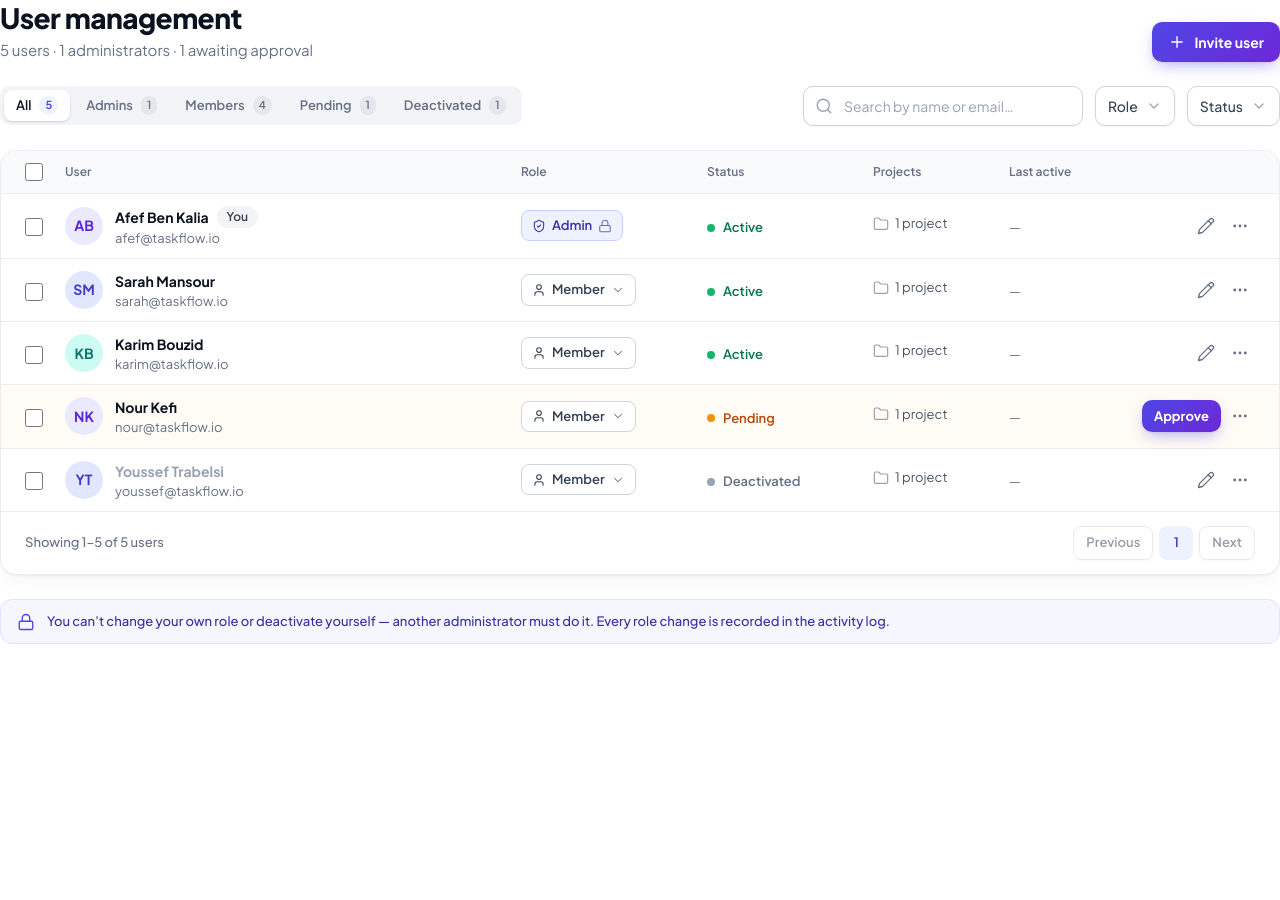
Scenario: Users › selection › reports partial failures and keeps the failed rows selected
This screenshot has width=1280, height=900.
Expected: the text "Karim Bouzid" is shown, left=115, top=334, right=204, bottom=354
Click the checkbox named "Select Sarah Mansour": click(34, 292) left=25, top=283, right=43, bottom=301
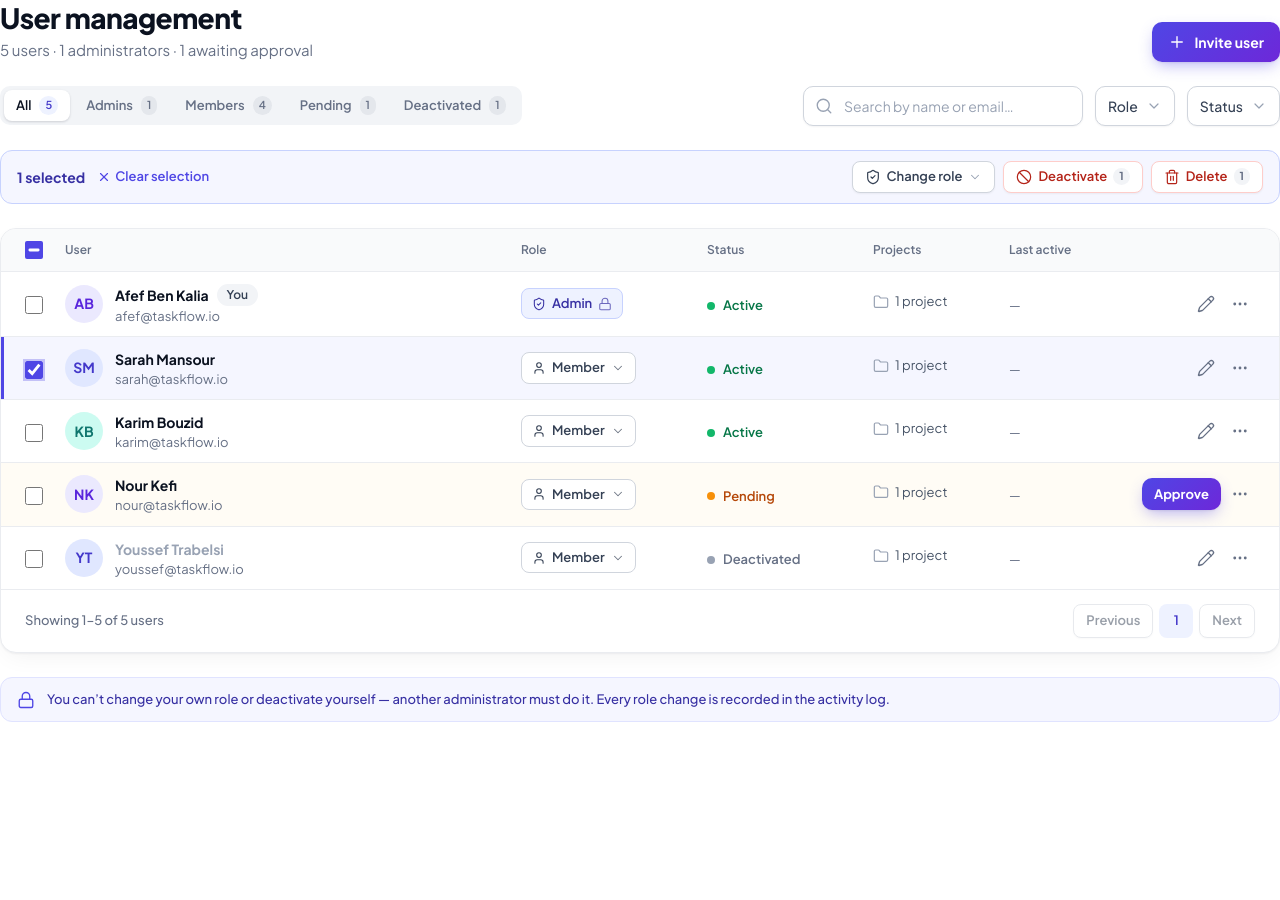
Click the checkbox named "Select Karim Bouzid": click(34, 433) left=25, top=424, right=43, bottom=442
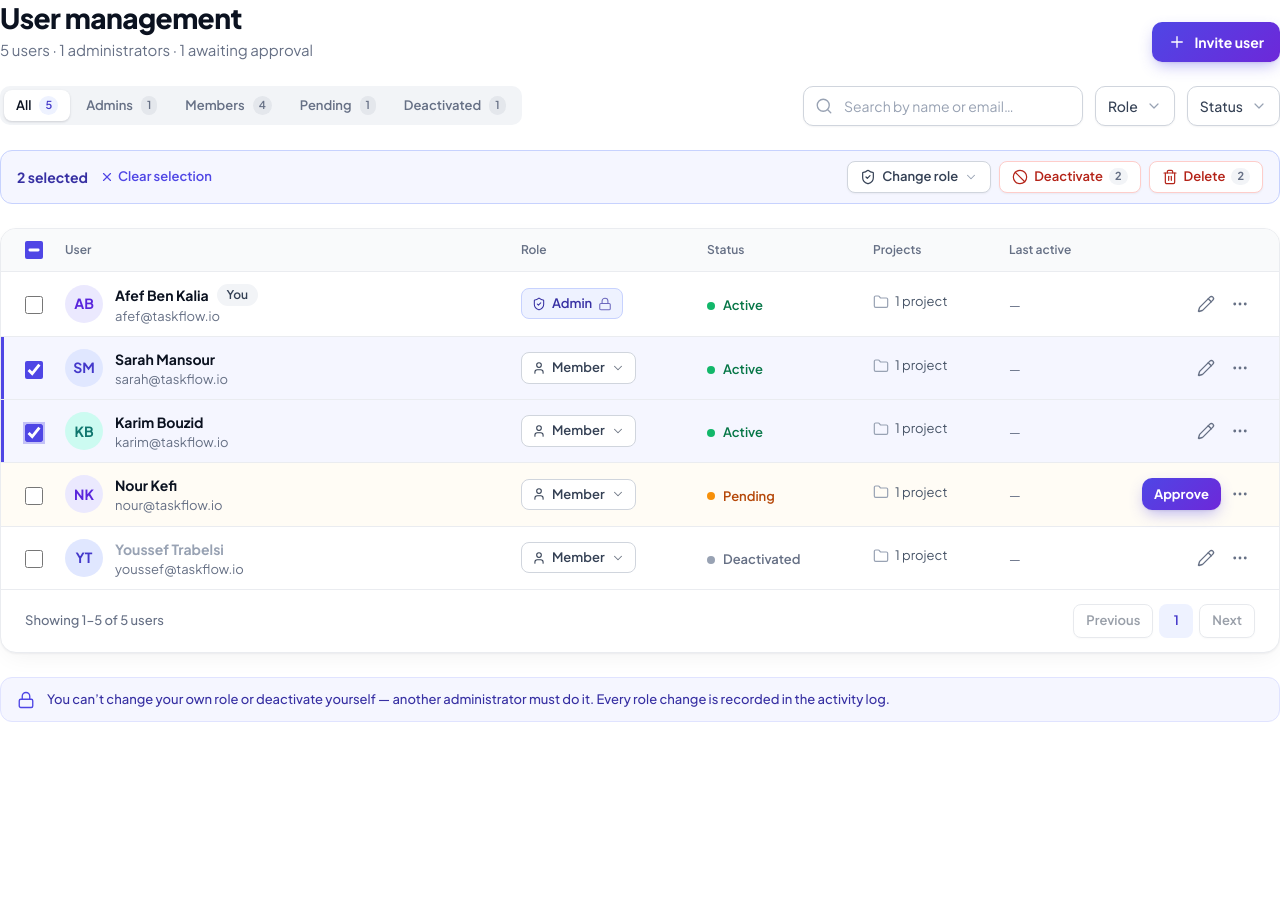
Click the button "Delete 2": click(1206, 176) left=1148, top=160, right=1263, bottom=192
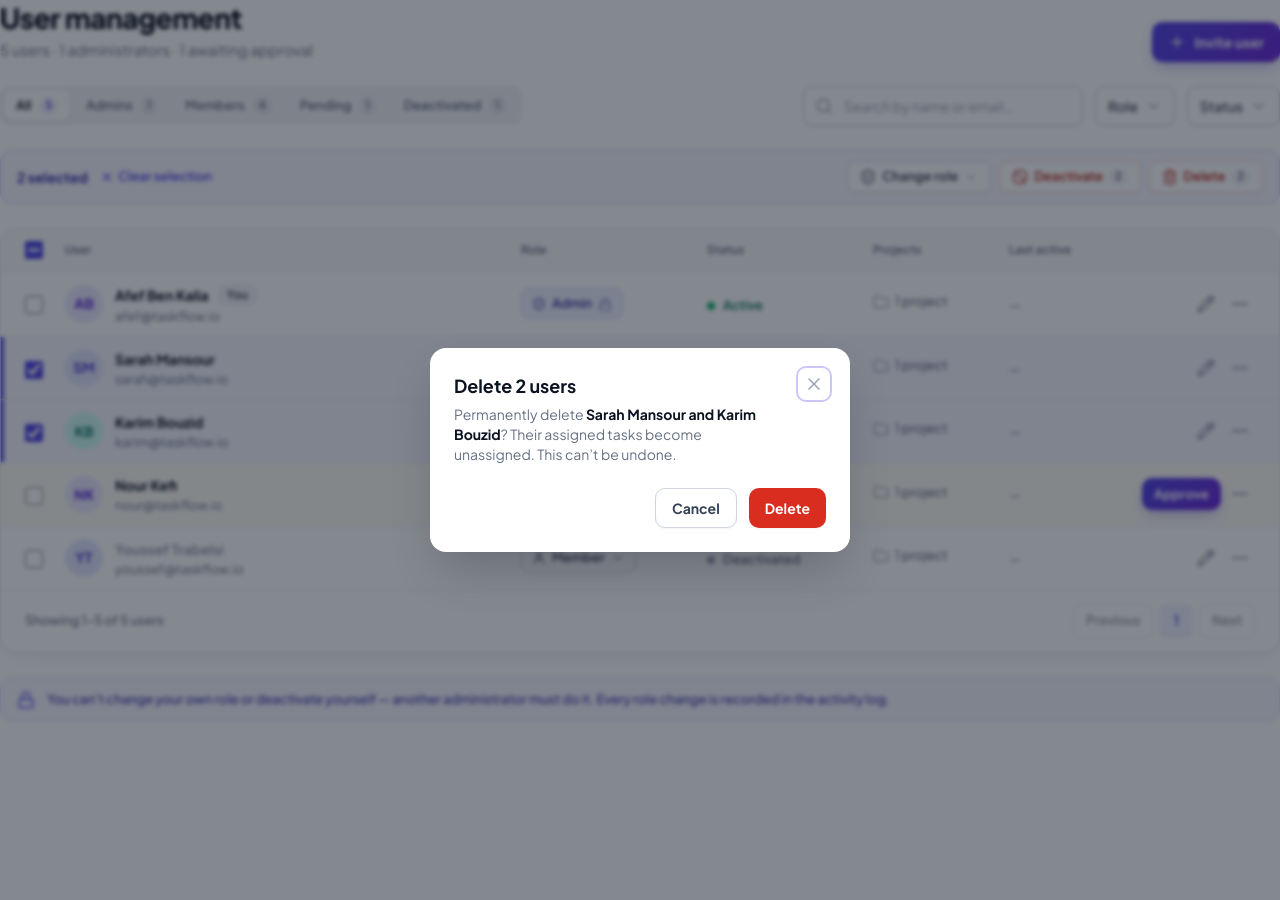
Click the button "Delete": click(787, 508) left=749, top=488, right=826, bottom=528
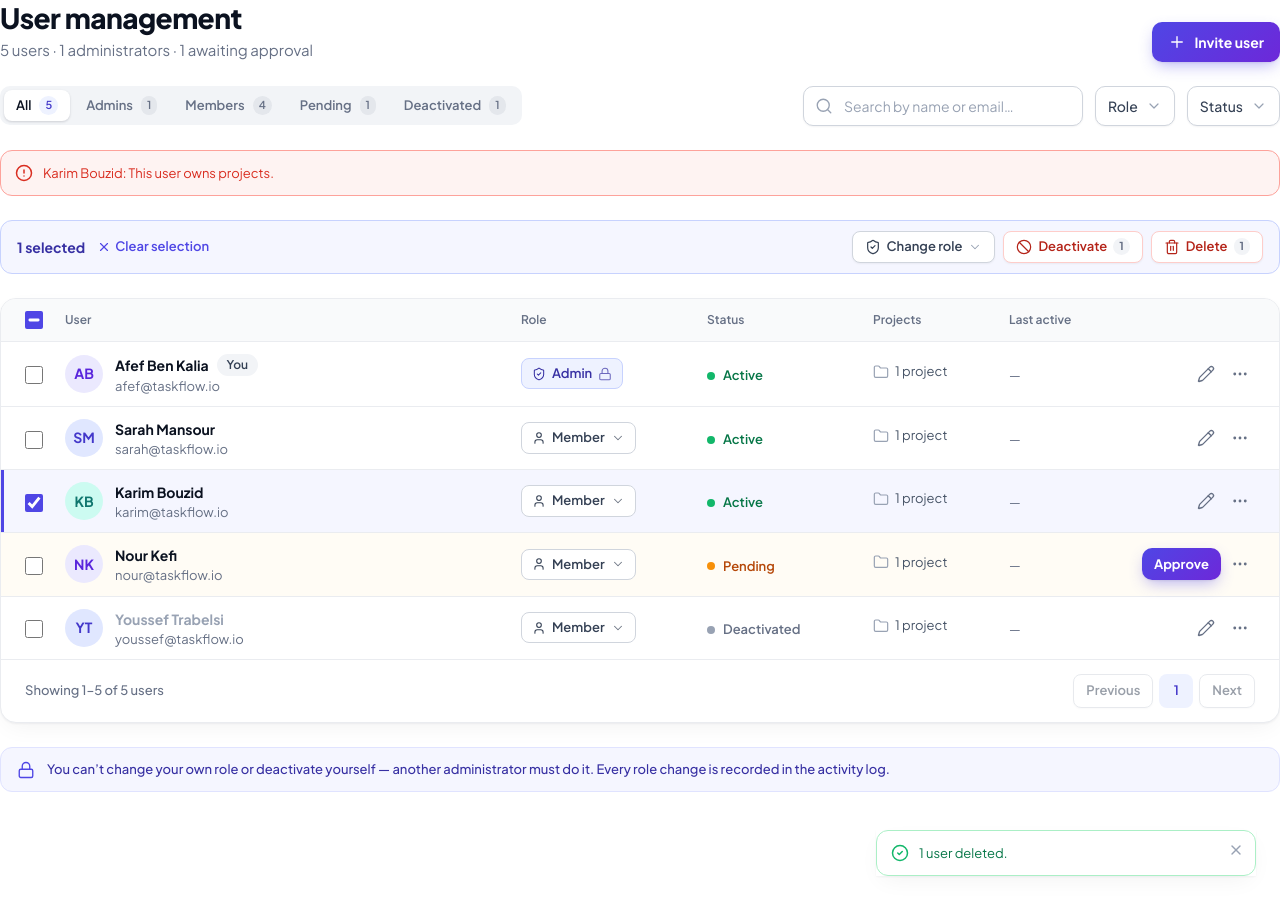
Result: the text "1 user deleted." is shown at left=919, top=843, right=1008, bottom=863
Result: the message "Karim Bouzid: This user owns projects." is shown at left=0, top=150, right=1279, bottom=196
